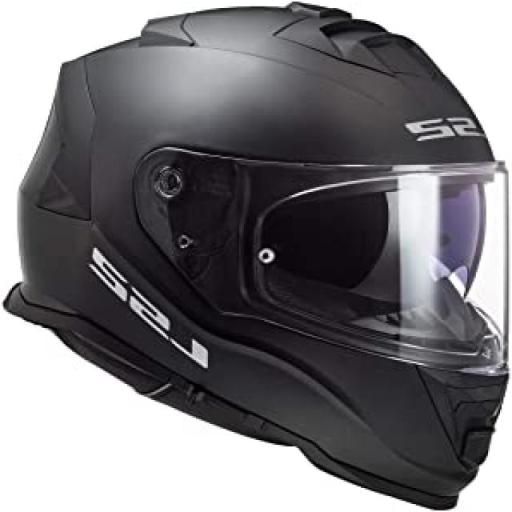Helmet: (5, 4, 507, 508)
